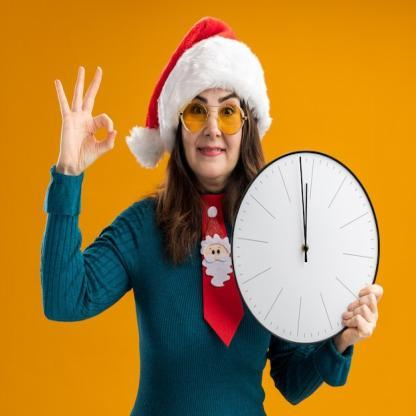ok: (52, 61, 119, 175)
